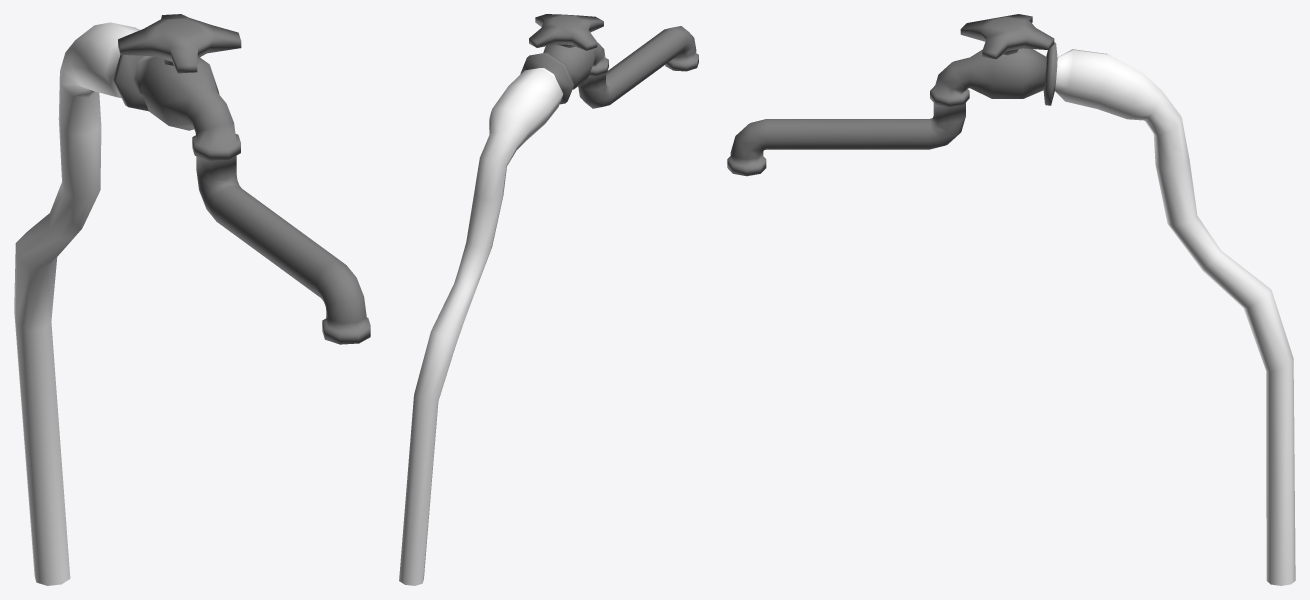
The model's file is Faucet.glb.
3 views of the same model, side by side, from view 1: azimuth 30°, elevation 25°; view 2: azimuth 150°, elevation 25°; view 3: azimuth 270°, elevation 25° (orthographic). The views are drawn at different scales.
Parts seen in each view (by area): view 1: Cylinder.002, Cylinder.005; view 2: Cylinder.002, Cylinder.005; view 3: Cylinder.002, Cylinder.005.
Boxes of the visible parts, x1=… form: Cylinder.002: x1=14, y1=22, x2=370, y2=585; Cylinder.005: x1=118, y1=14, x2=241, y2=73; Cylinder.002: x1=399, y1=26, x2=698, y2=585; Cylinder.005: x1=529, y1=14, x2=603, y2=50; Cylinder.002: x1=727, y1=42, x2=1295, y2=585; Cylinder.005: x1=960, y1=14, x2=1054, y2=59.
Size of the model in its own units: 0.2058 by 1.17 by 1.12.
1 material, 1 textured.
